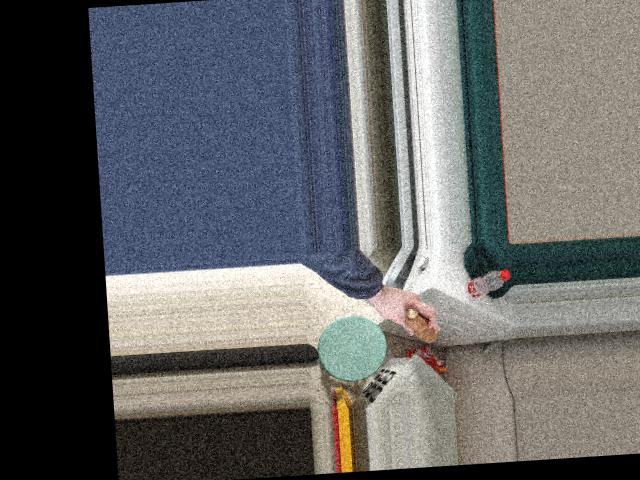sweet_potato: (399, 302, 441, 343)
